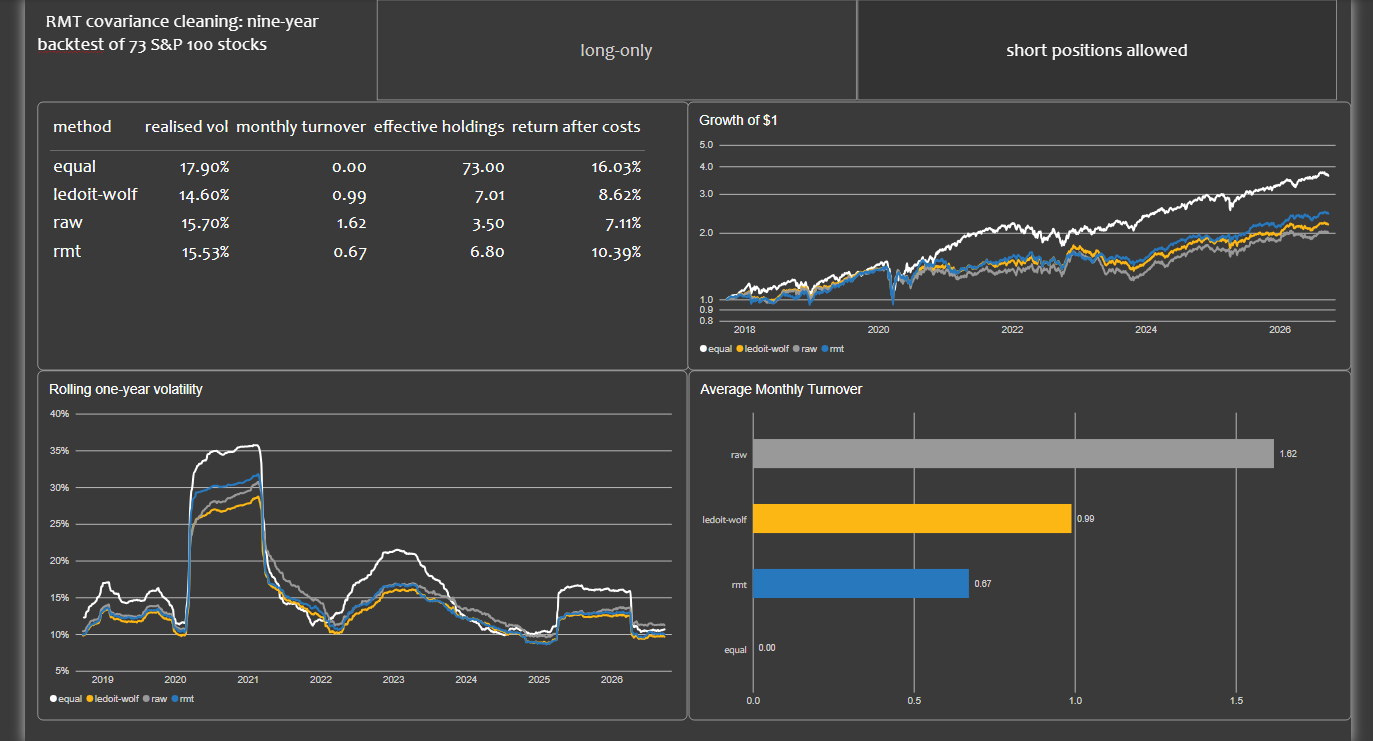

The page's visual inventory and layout, read from the dashboard file:
{"tool":"powerbi","page":{"name":"Page 1","canvas":[1920,1080],"ordinal":0},"visuals":[{"type":"slicer","fields":{"Values":["Portfolio.portfolio"]},"box":[488.6,0,1429.6,150.2],"z":0},{"type":"tableEx","fields":{"Values":["summary.method","Sum(summary.realised vol)","Sum(summary.monthly turnover)","Sum(summary.effective holdings)","Sum(summary.return after costs)"]},"box":[18.1,150.2,942.8,389.1],"z":1},{"type":"lineChart","title":"Growth of $1","fields":{"Category":["daily.date"],"Series":["daily.method"],"Y":["Sum(daily.growth of $1)"]},"box":[959.1,150.2,960.9,389.1],"z":2},{"type":"lineChart","title":"Rolling one-year volatility ","fields":{"Category":["daily.date"],"Series":["daily.method"],"Y":["Sum(daily.rolling vol)"]},"box":[18.1,539.3,941,506.7],"z":3},{"type":"clusteredBarChart","title":"Average Monthly Turnover","fields":{"Category":["rebalances.method"],"Y":["Avg(rebalances.turnover)"]},"box":[960.9,539.3,959.1,506.7],"z":4},{"type":"textbox","box":[18.1,0,472.3,150.2],"z":5}]}

Visuals, with their boxes in screenshot pixels (x1, y1, x2, y2):
slicer - Portfolio.portfolio: (left=349, top=0, right=1351, bottom=95)
tableEx - summary.method x Sum(summary.realised vol): (left=20, top=95, right=680, bottom=367)
"Growth of $1" lineChart: (left=679, top=95, right=1352, bottom=367)
"Rolling one-year volatility " lineChart: (left=20, top=367, right=679, bottom=722)
"Average Monthly Turnover" clusteredBarChart: (left=680, top=367, right=1352, bottom=722)
textbox: (left=20, top=0, right=351, bottom=95)
